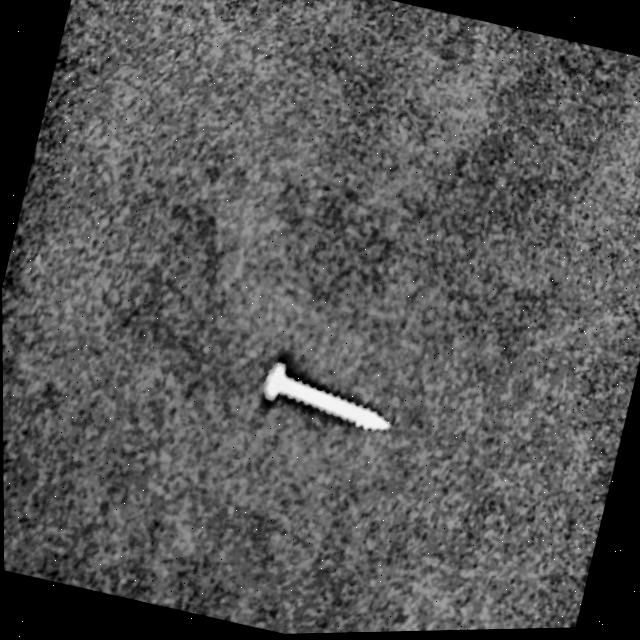Sheet metal screw: (257, 357, 400, 439)
